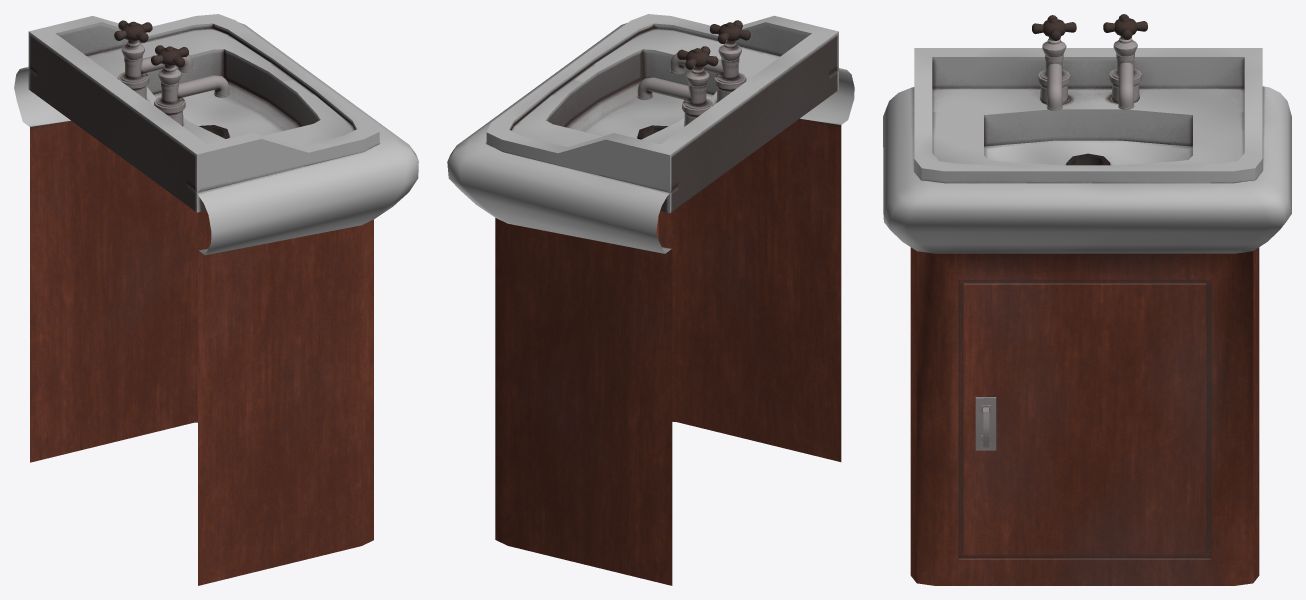
File: SM_Wash_Basin.fbx
3 renders of one model, left to right at view 1: azimuth 30°, elevation 25°; view 2: azimuth 150°, elevation 25°; view 3: azimuth 270°, elevation 25°, orthographic. The views are drawn at different scales.
Visible parts, largest first — view 1: SM_Wash_Basin; view 2: SM_Wash_Basin; view 3: SM_Wash_Basin.
Boxes of the visible parts, x1=… form: SM_Wash_Basin: x1=14, y1=14, x2=418, y2=585; SM_Wash_Basin: x1=447, y1=14, x2=854, y2=585; SM_Wash_Basin: x1=883, y1=14, x2=1291, y2=585.
Bounding box in the file's own units: 38.08 × 59.69 × 79.67.
Materials: 1 (1 with a texture image).
